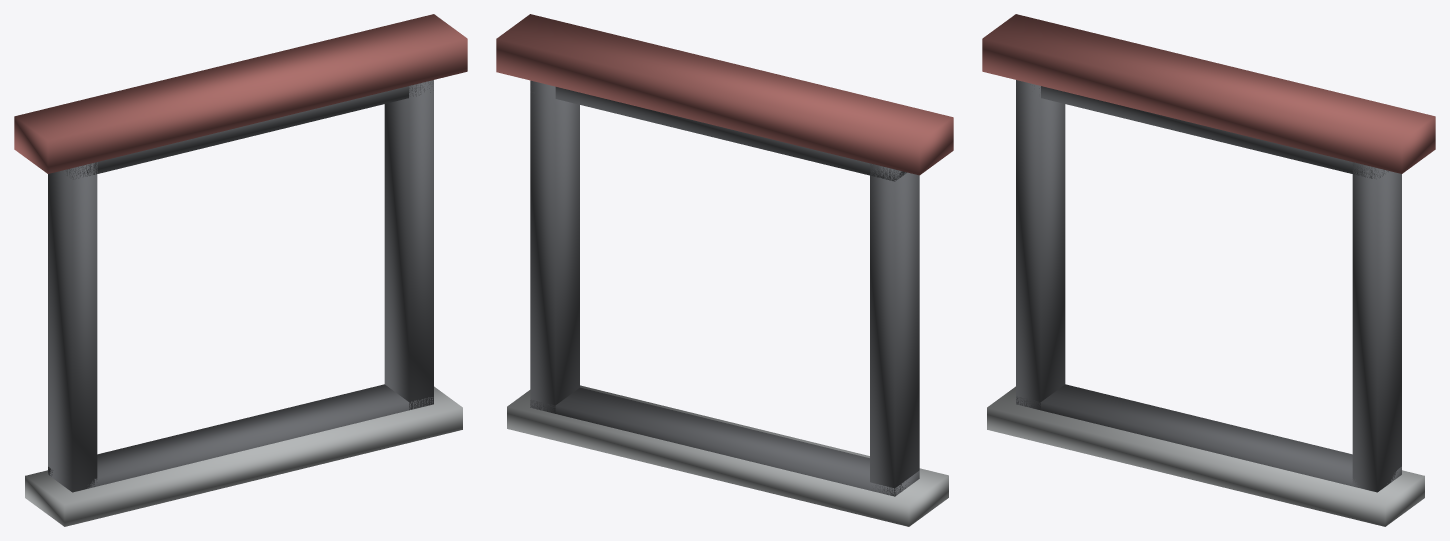
The model's file is egress_window_brick_w118_h110_s72_d16.glb.
3 renders of one model, left to right at view 1: azimuth 30°, elevation 25°; view 2: azimuth 150°, elevation 25°; view 3: azimuth 330°, elevation 25°, orthographic.
Visible parts, largest first — view 1: world; view 2: world; view 3: world.
Boxes of the visible parts, <box> form: world: <box>14,14,467,526</box>; world: <box>496,14,953,526</box>; world: <box>982,14,1435,526</box>.
Bounding box in the file's own units: 1.59 × 1.39 × 0.26.
